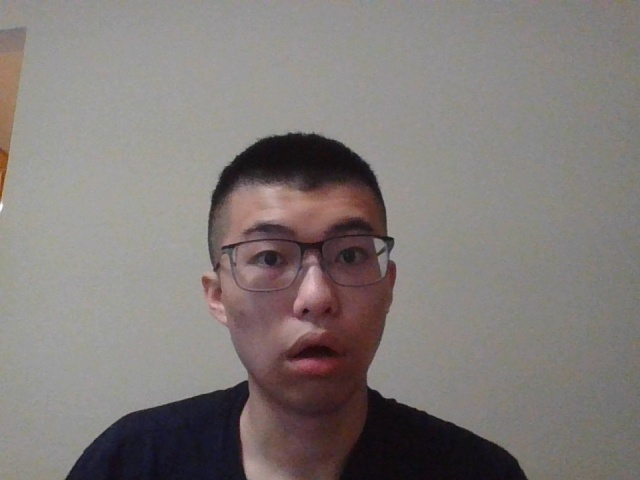fear: (202, 132, 401, 419)
